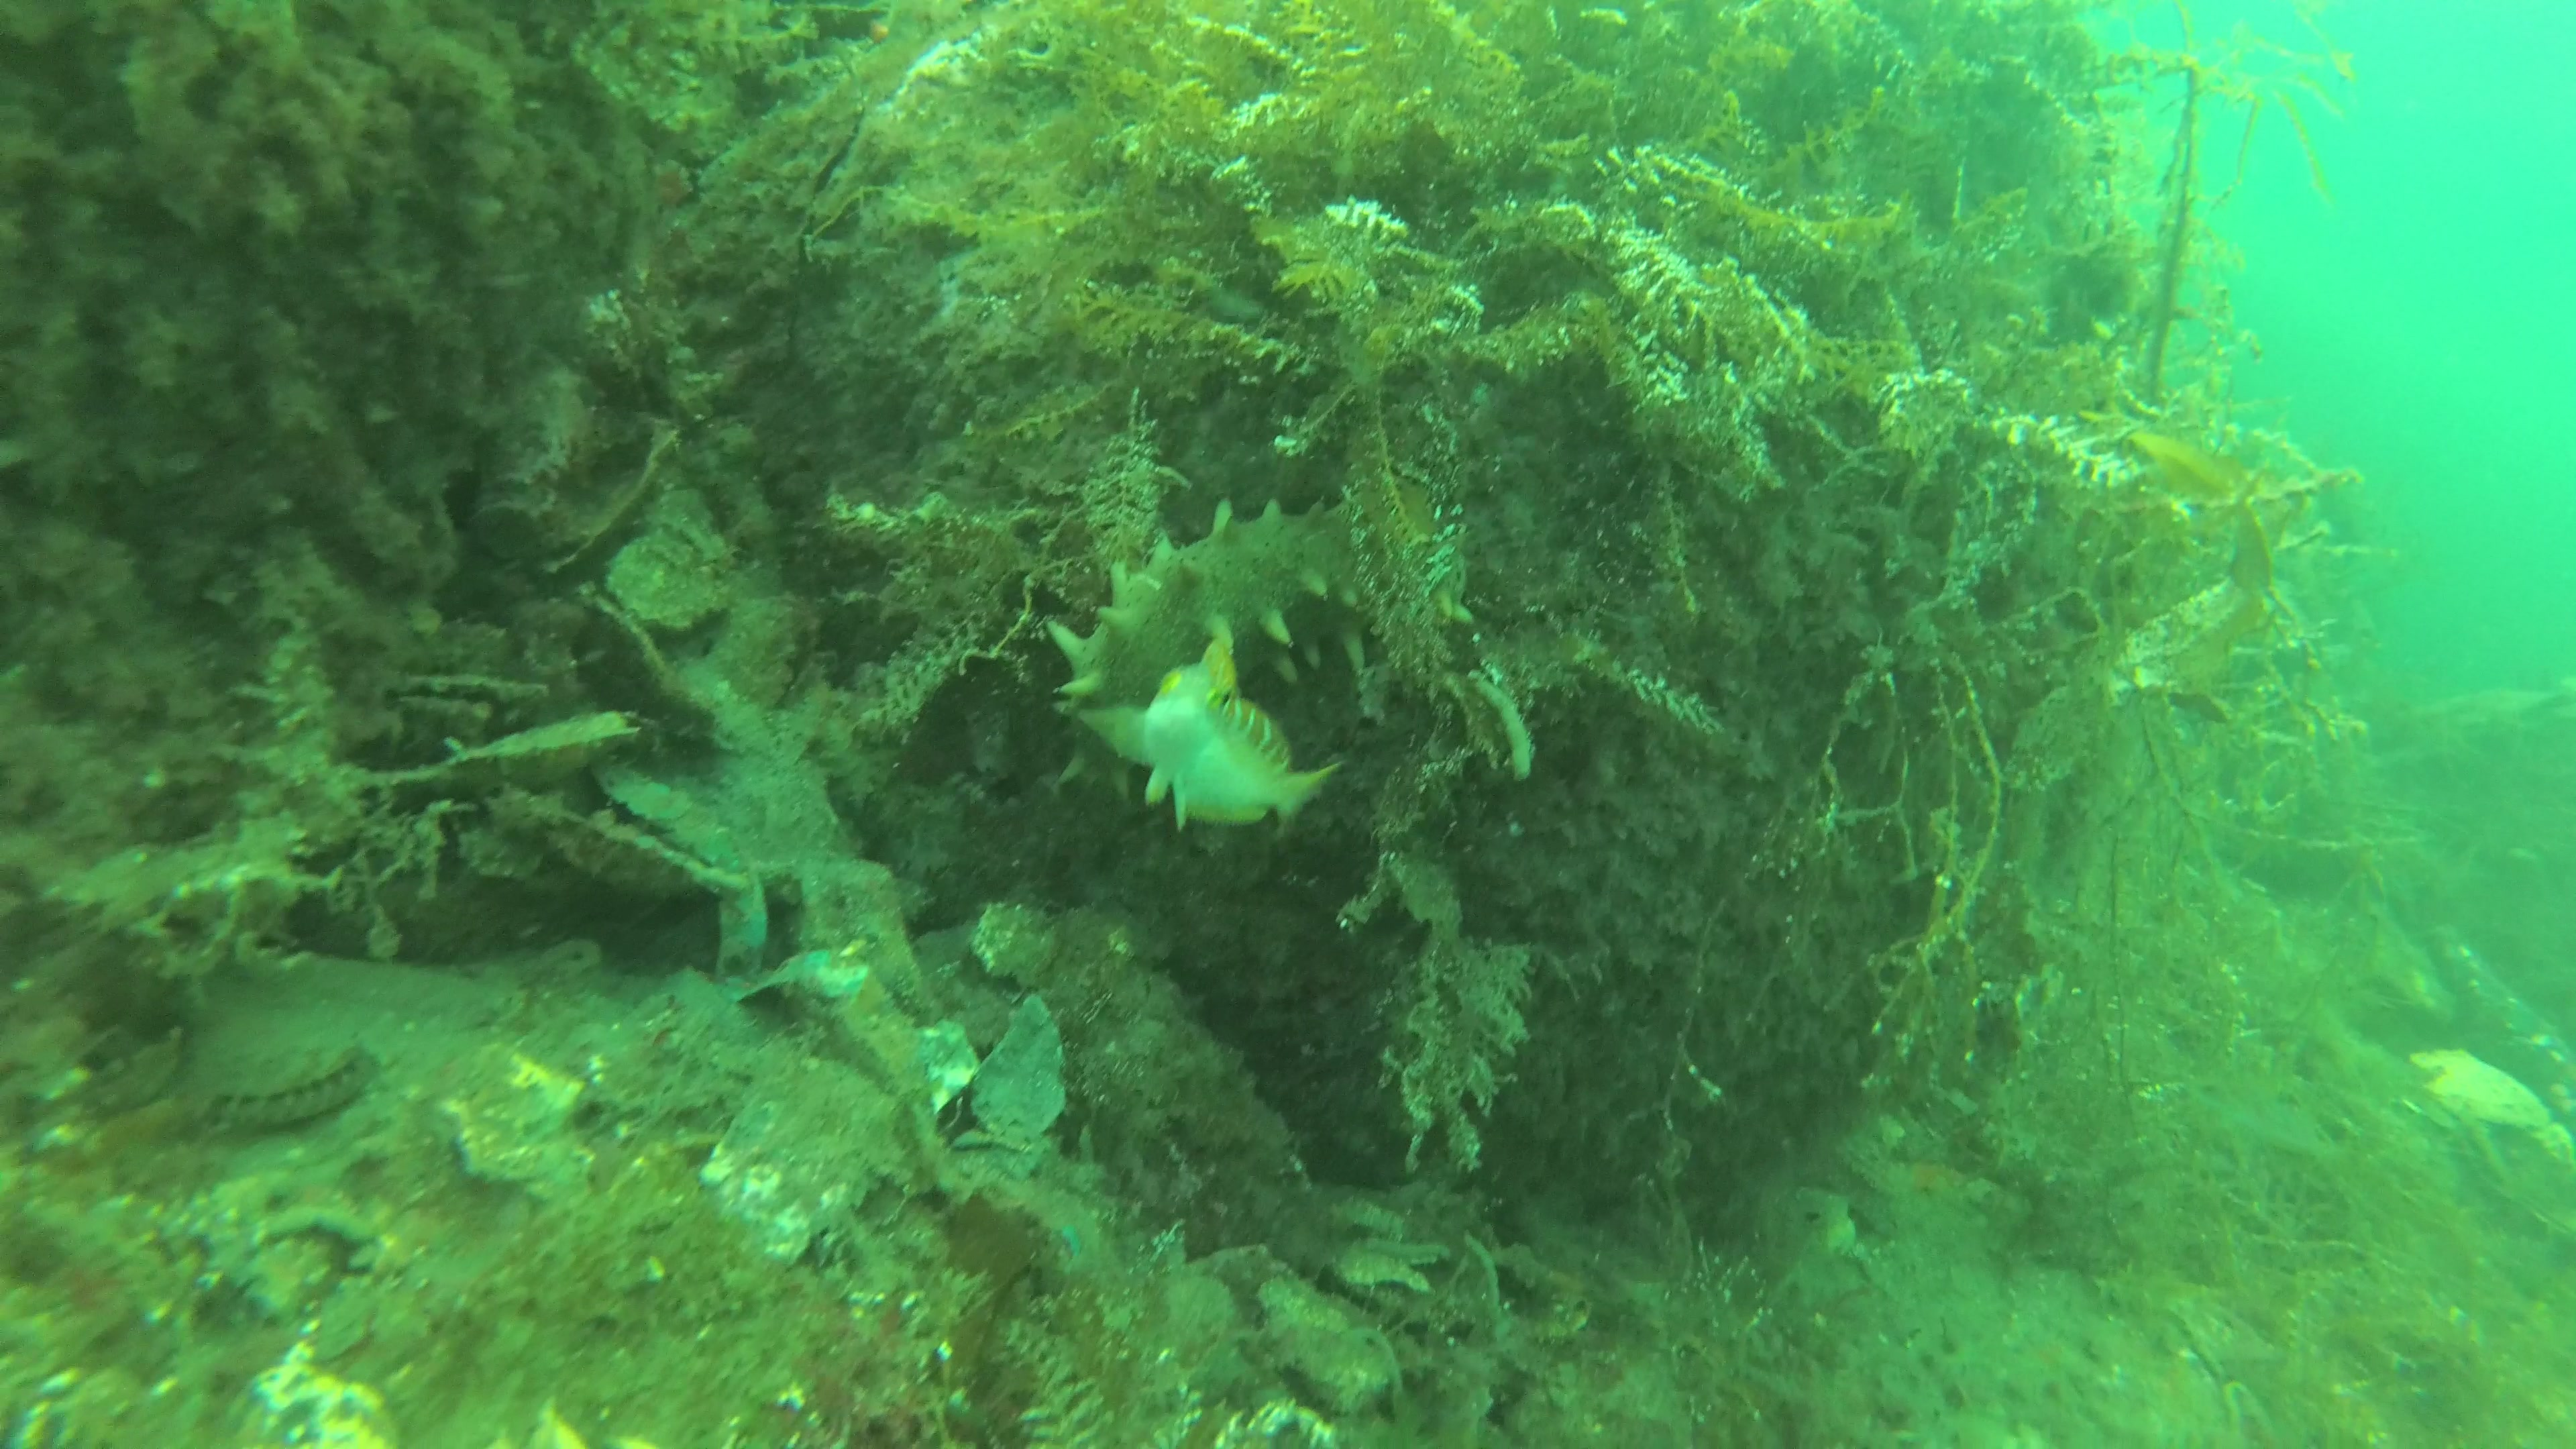holothurian: (1047, 494, 1412, 796)
